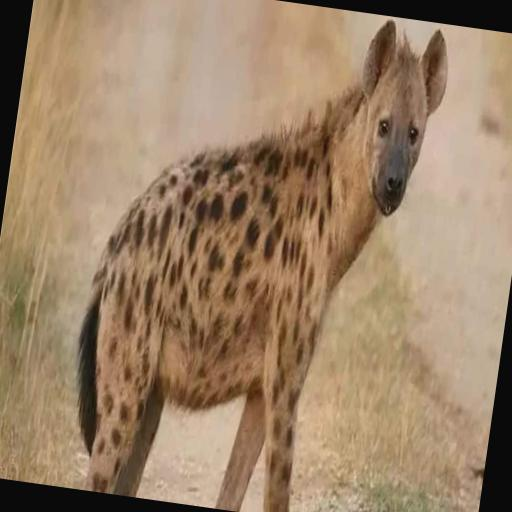hyenas: (0, 0, 459, 512)
